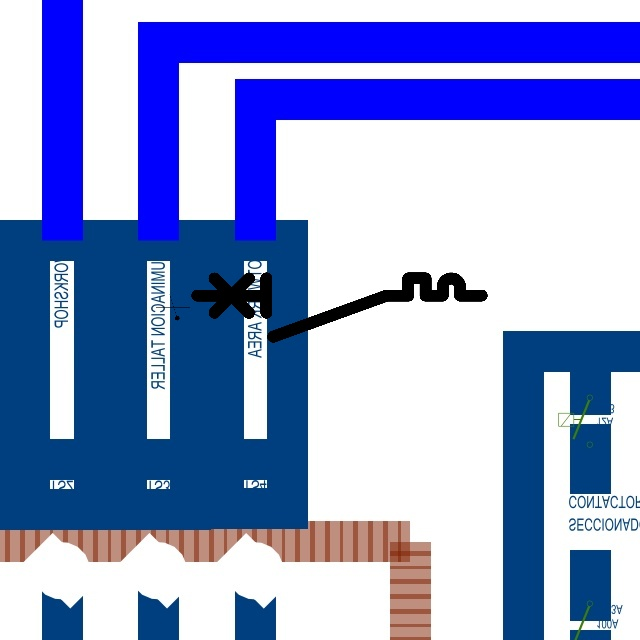interruptor_termomagnetico: (189, 271, 488, 344)
